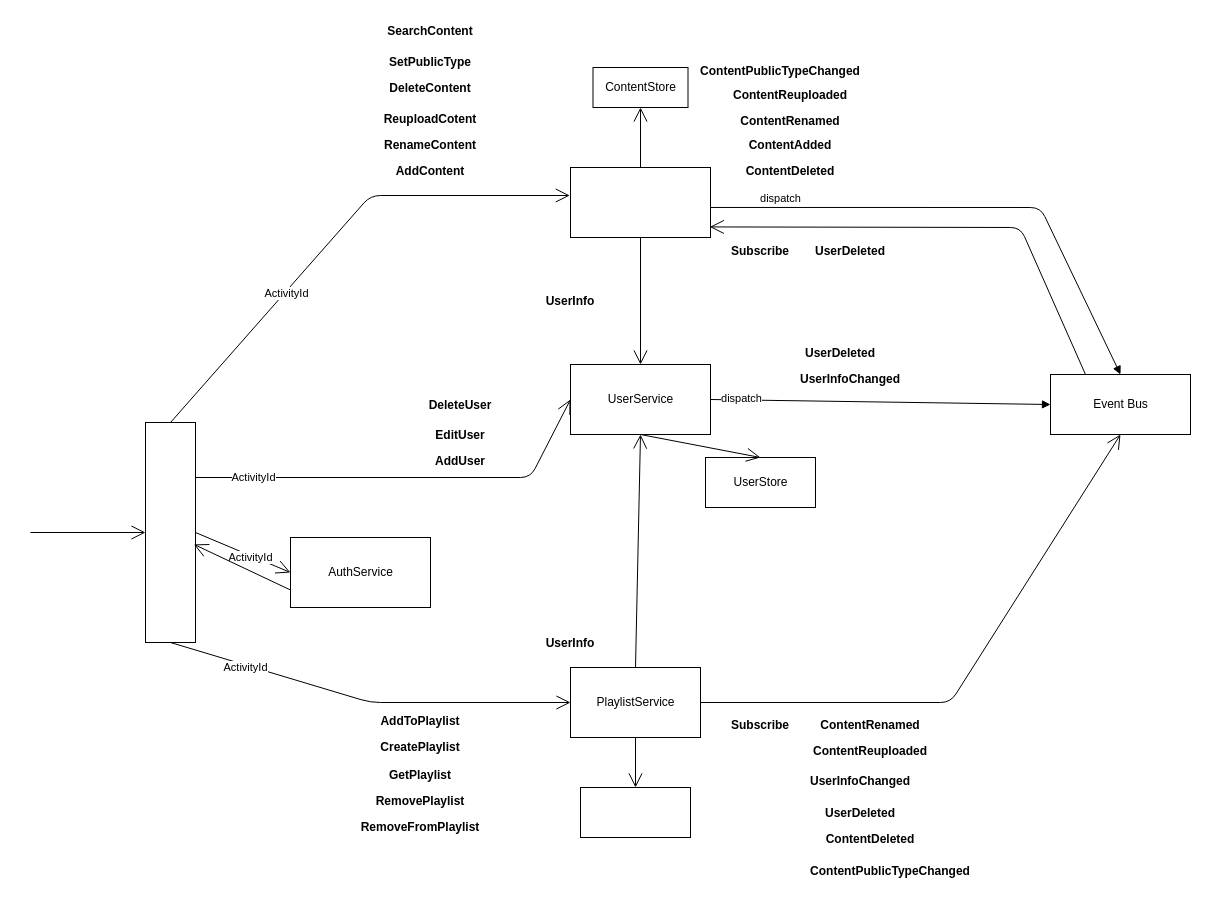
Some shapes in this 1208 by 900 pixel diagram are drawn without their labels. The centre of each missing label's shape, as x and y in pixels:
Api Gateway: (170,532)
ContentService: (640,202)
PlaylistStore: (635,812)
